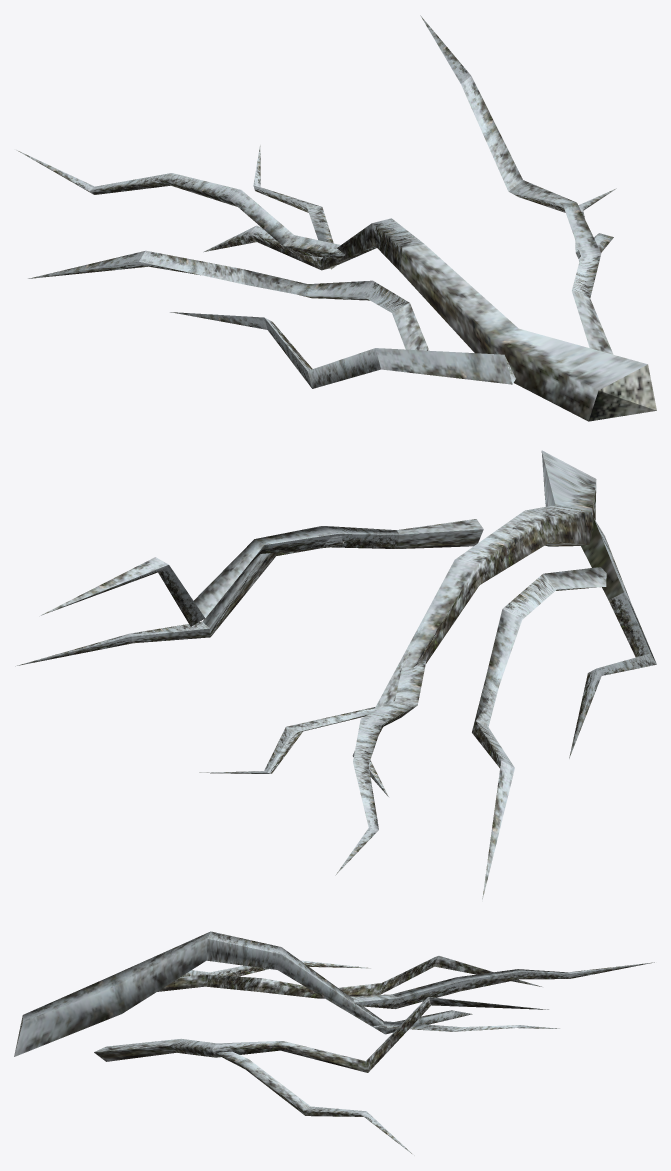
Rendered from S_Tree_White009.FBX.
The picture shows the model from 3 angles, top to bottom: view 1: azimuth 30°, elevation 25°; view 2: azimuth 150°, elevation 25°; view 3: azimuth 270°, elevation 25°; orthographic projection. The views are drawn at different scales.
Parts seen in each view (by area): view 1: S_Tree_White009; view 2: S_Tree_White009; view 3: S_Tree_White009.
Part boxes in pixels (<box>): S_Tree_White009: <box>16,15,656,421</box>; S_Tree_White009: <box>15,450,656,901</box>; S_Tree_White009: <box>14,931,654,1155</box>.
Bounding box in the file's own units: 334 × 474 × 105.
